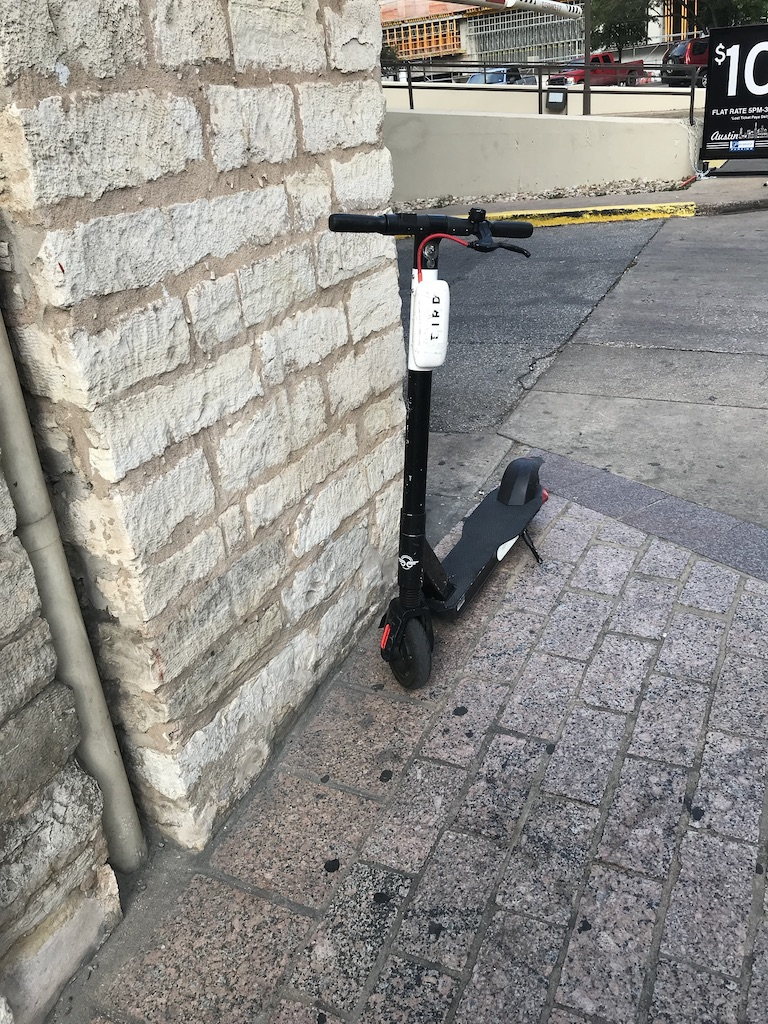scooter: (325, 205, 551, 694)
